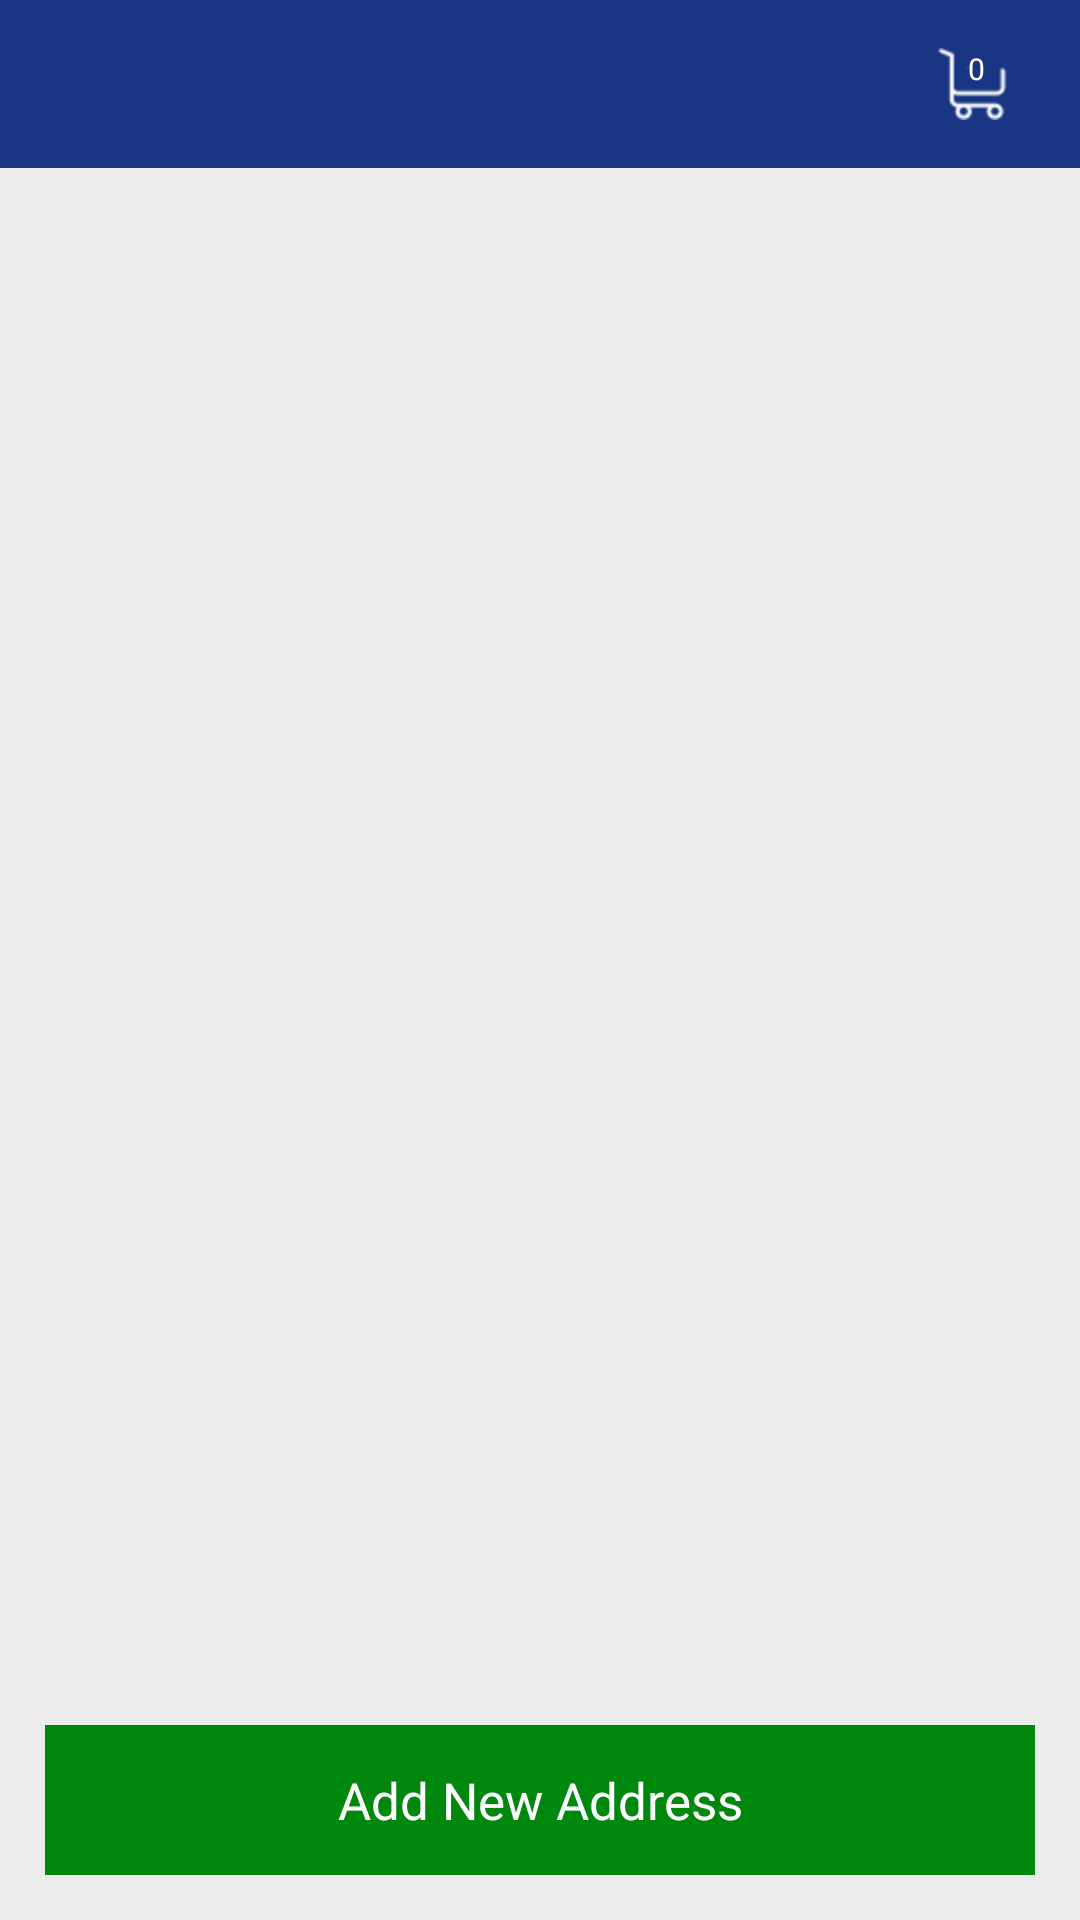

Icon click points for this 1080×1920 phone screenshot, format (x,y):
cart: (972,84)
